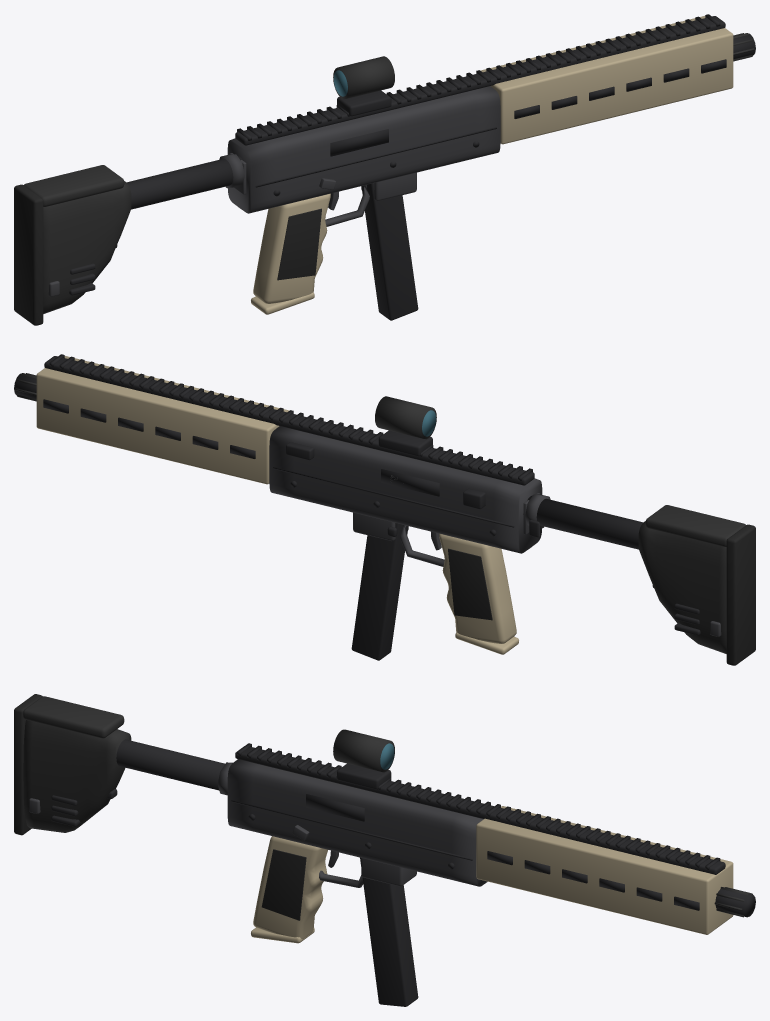
The model's file is SM_SCAR.glb.
3 views of the same model, one above another, from view 1: azimuth 30°, elevation 25°; view 2: azimuth 150°, elevation 25°; view 3: azimuth 330°, elevation 25° (orthographic).
Parts seen in each view (by area): view 1: SM_SCAR; view 2: SM_SCAR; view 3: SM_SCAR.
Part boxes in pixels (<box>): SM_SCAR: <box>14,14,755,325</box>; SM_SCAR: <box>14,354,755,665</box>; SM_SCAR: <box>14,694,755,1006</box>.
Bounding box in the file's own units: 0.875 × 0.2983 × 0.067.
